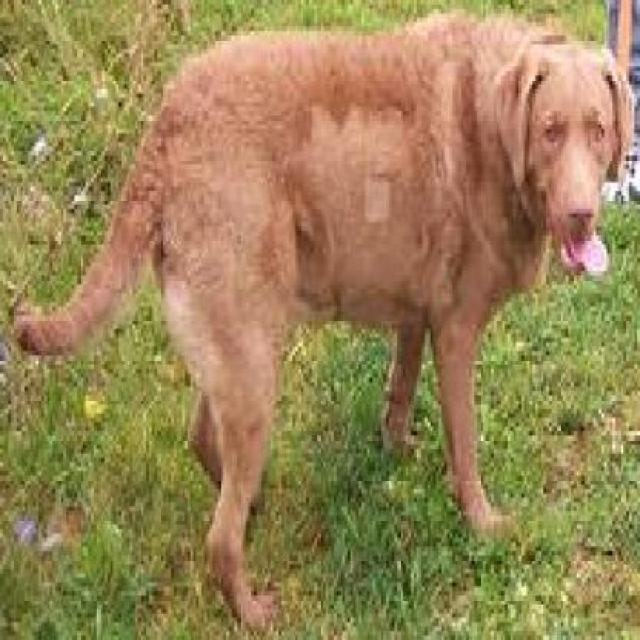Dog: (11, 11, 634, 638)
